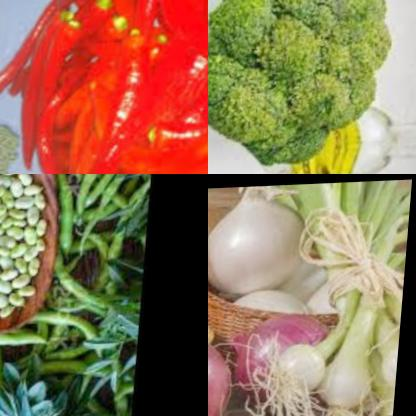beans: (0, 174, 161, 416), (0, 174, 49, 320)
broccoli: (208, 0, 402, 166)
hot pepper: (0, 0, 208, 174)
onion: (208, 185, 317, 303), (231, 312, 327, 390), (316, 345, 402, 416), (234, 277, 324, 331), (272, 339, 335, 401), (208, 324, 241, 416)
